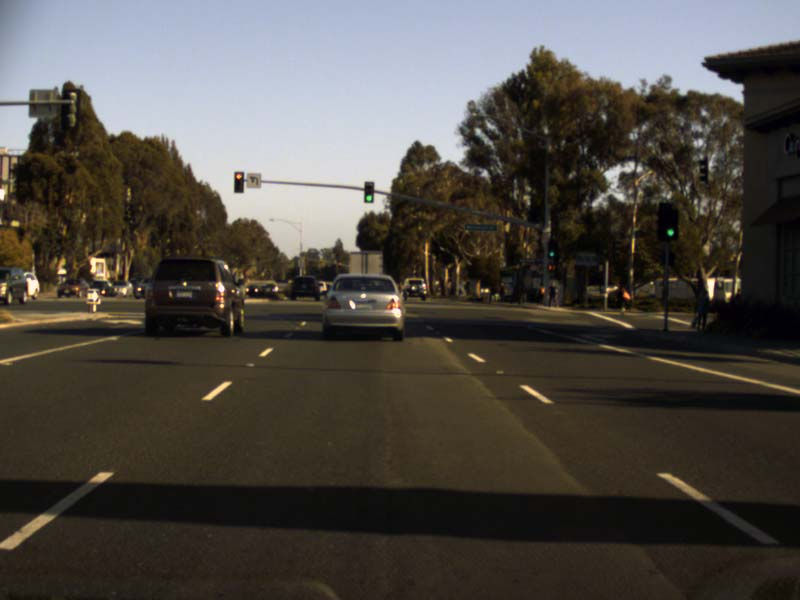Green: (661, 207, 678, 240), (364, 181, 374, 204), (548, 242, 557, 258)
Red: (233, 171, 243, 194)
